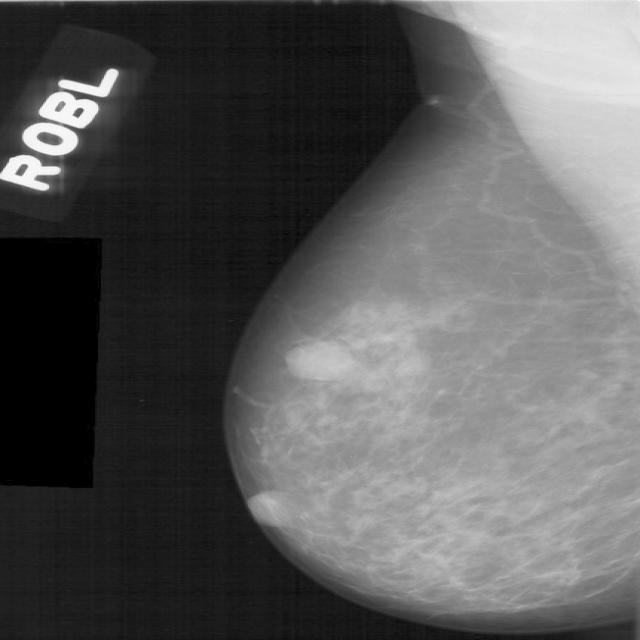tumour: (282, 340, 355, 379)
